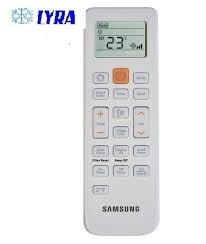remote control: (80, 2, 164, 244)
